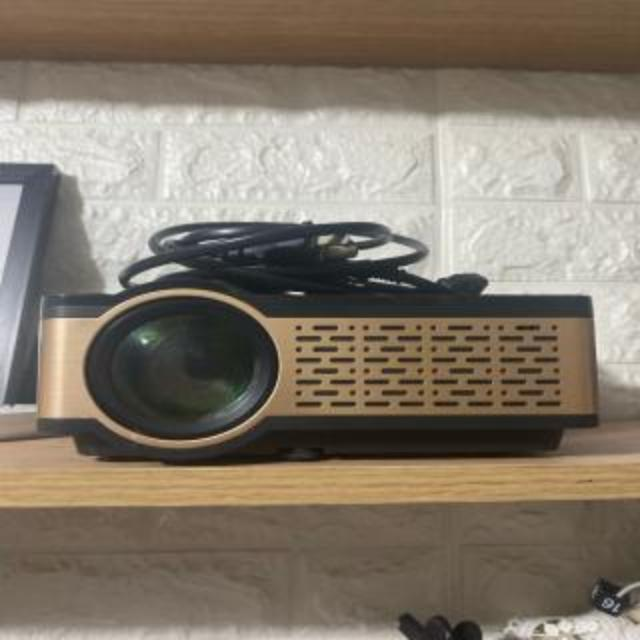Projector: (34, 282, 600, 470)
